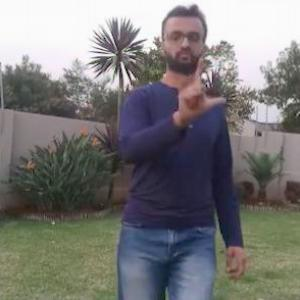land_hand: (173, 50, 230, 119)
